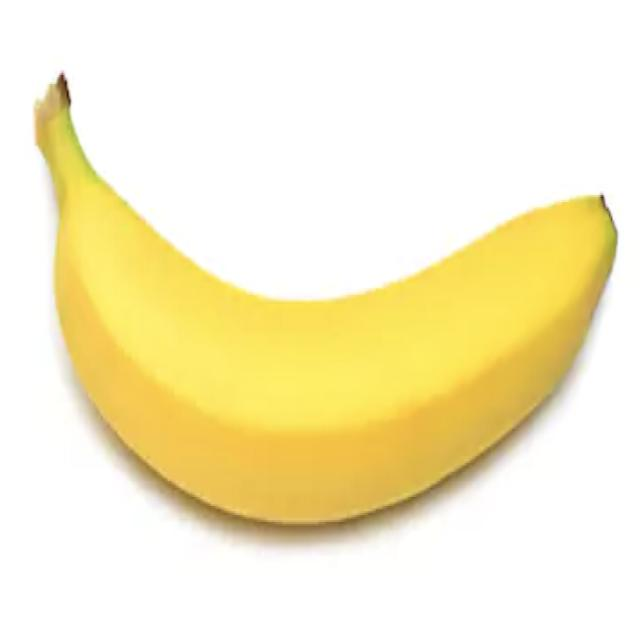Ripe: (22, 54, 626, 553)
